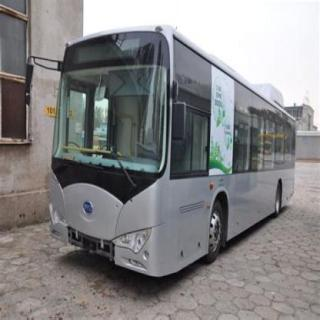Normal_vehicle: (22, 15, 309, 294)
